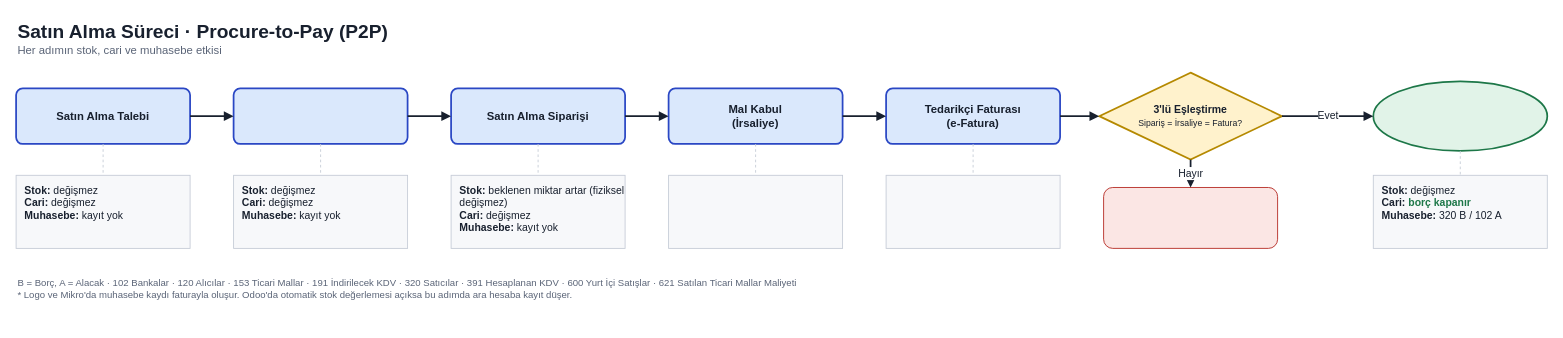
Image size: 1563x338. Some labels were removed from this diagram. Here are the shapes that lost their labels. From the top down, the box of each, then its label:
(232, 87, 408, 144): Teklif Toplama (RFQ)
(1372, 80, 1548, 151): Ödeme
(668, 174, 843, 248): Stok: artar Cari: değişmez Muhasebe: kayıt yok*
(885, 174, 1060, 248): Stok: değişmez Cari: tedarikçiye borç artar Muhasebe: 153 B, 191 B / 320 A
(1103, 187, 1278, 248): Fark onayı ya da tedarikçiden fark faturası, sonra tekrar eşleştir
